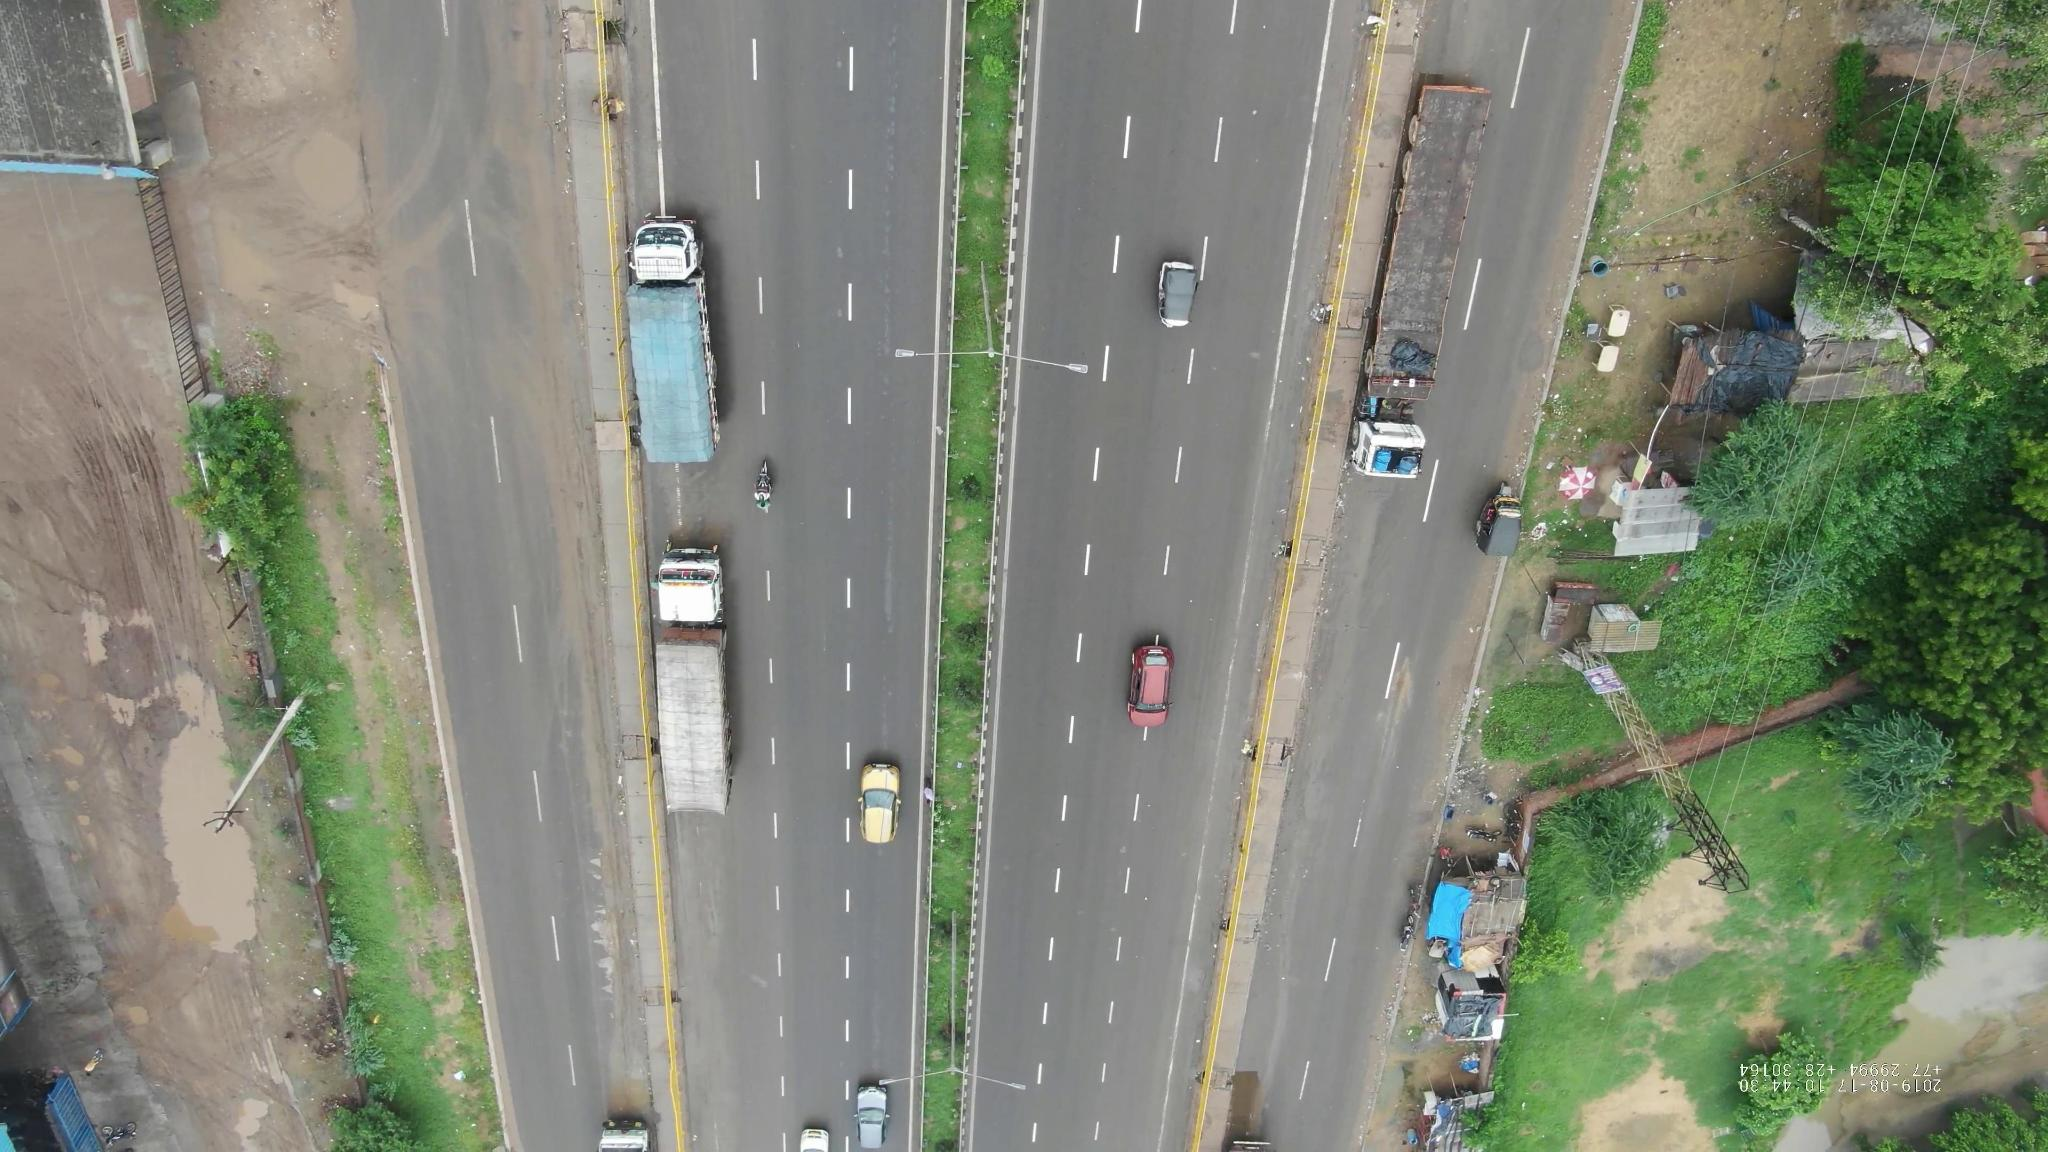Waterlogging: (146, 672, 269, 947), (537, 318, 594, 512)
